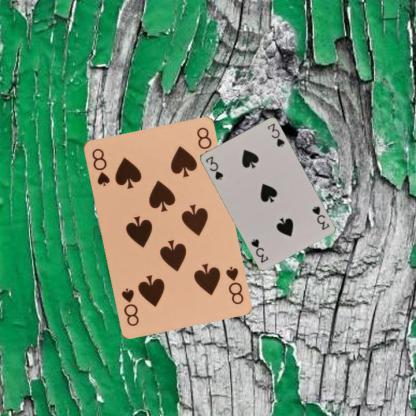3s: (309, 203, 331, 231), (203, 154, 224, 181)
8s: (222, 263, 244, 306), (89, 146, 111, 187)
